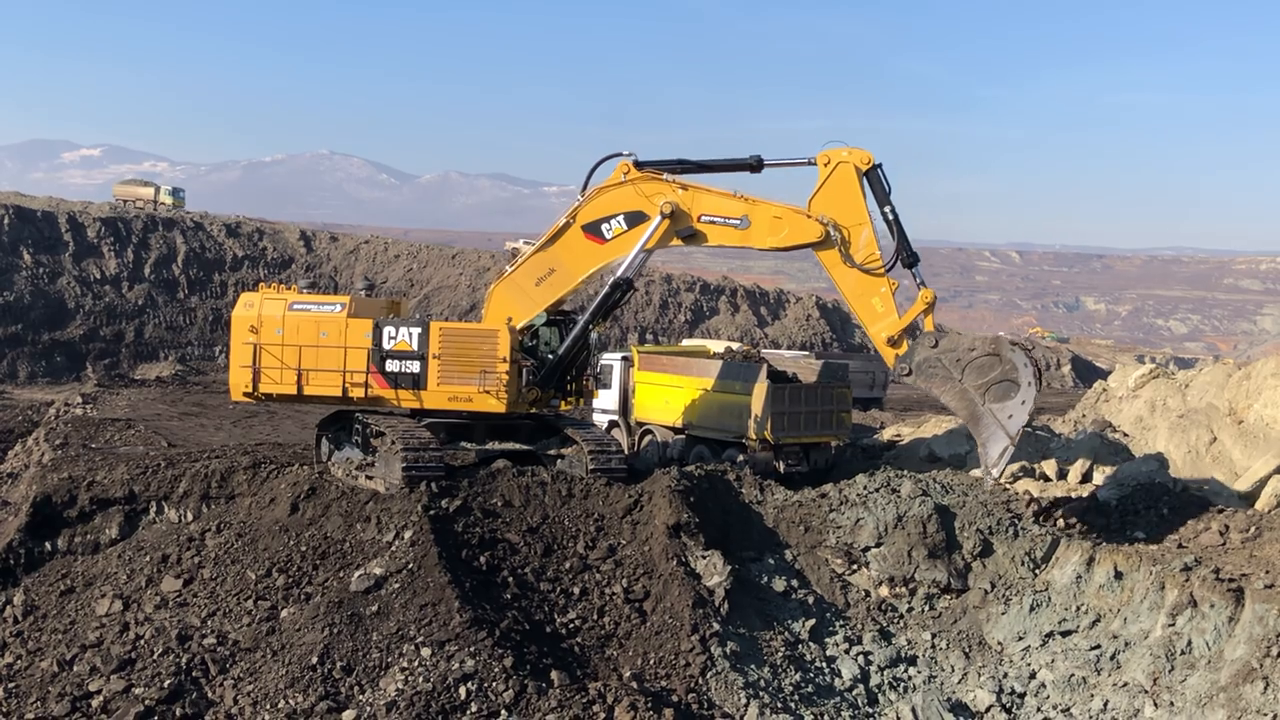full: (878, 333, 1048, 484)
